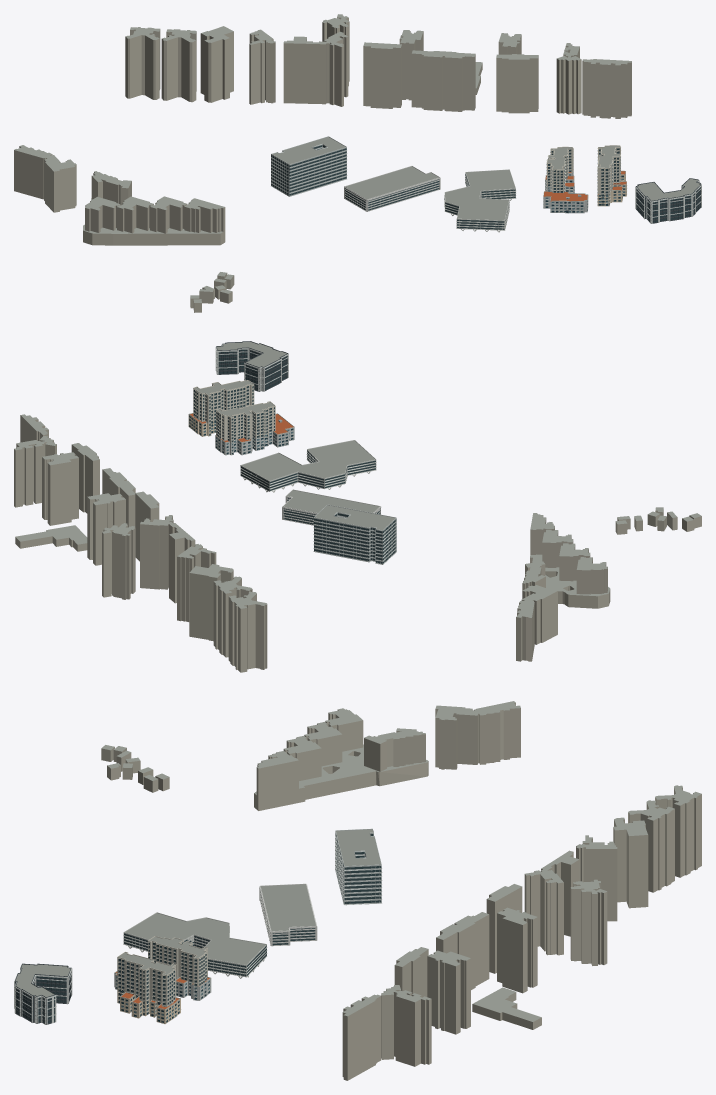
Rendered from zone_0_1-medium.glb.
3 views of the same model, one above another, from view 1: azimuth 30°, elevation 25°; view 2: azimuth 150°, elevation 25°; view 3: azimuth 270°, elevation 25° (orthographic). The views are drawn at different scales.
Visible parts, largest first — view 1: web_building_914973821, web_building_1424777851, web_building_2532440, web_building_1058569050, web_building_914973844, web_building_1328114548, web_building_914973820, web_building_914973822, web_building_914897042, web_building_914897043, web_building_773906092, web_building_914900394 (+17 smaller); view 2: web_building_1424777851, web_building_2532440, web_building_914897043, web_building_194547399, web_building_914973813, web_building_1058569050, web_building_914900392, web_building_914900394, web_building_773906092, web_building_667717927, web_building_914973842, web_building_667717925 (+17 smaller); view 3: web_building_1058569050, web_building_1424777851, web_building_914973842, web_building_914973813, web_building_2532440, web_building_15728037, web_building_914973819, web_building_914900392, web_building_1328114548, web_building_194547399, web_building_914973844, web_building_773906092 (+18 smaller).
Boxes of the visible parts, x1=… form: web_building_914973821: x1=411, y1=50, x2=475, y2=111; web_building_1424777851: x1=444, y1=169, x2=516, y2=232; web_building_2532440: x1=271, y1=136, x2=347, y2=196; web_building_1058569050: x1=14, y1=145, x2=76, y2=212; web_building_914973844: x1=582, y1=59, x2=631, y2=118; web_building_1328114548: x1=344, y1=166, x2=440, y2=211; web_building_914973820: x1=363, y1=42, x2=401, y2=108; web_building_914973822: x1=496, y1=54, x2=538, y2=113; web_building_914897042: x1=161, y1=29, x2=196, y2=102; web_building_914897043: x1=125, y1=27, x2=160, y2=99; web_building_773906092: x1=200, y1=26, x2=233, y2=102; web_building_914900394: x1=315, y1=31, x2=348, y2=106; web_building_1424777851: x1=240, y1=440, x2=376, y2=492; web_building_2532440: x1=313, y1=504, x2=396, y2=564; web_building_914897043: x1=228, y1=591, x2=267, y2=672; web_building_194547399: x1=215, y1=341, x2=288, y2=391; web_building_914973813: x1=42, y1=452, x2=78, y2=525; web_building_1058569050: x1=516, y1=585, x2=557, y2=661; web_building_914900392: x1=102, y1=523, x2=135, y2=599; web_building_914900394: x1=140, y1=515, x2=179, y2=589; web_building_773906092: x1=189, y1=564, x2=233, y2=641; web_building_667717927: x1=216, y1=401, x2=275, y2=454; web_building_914973842: x1=14, y1=436, x2=56, y2=507; web_building_667717925: x1=193, y1=380, x2=254, y2=433; web_building_1058569050: x1=435, y1=701, x2=520, y2=769; web_building_1424777851: x1=123, y1=912, x2=267, y2=978; web_building_914973842: x1=381, y1=985, x2=431, y2=1066; web_building_914973813: x1=427, y1=950, x2=470, y2=1034; web_building_2532440: x1=335, y1=828, x2=382, y2=905; web_building_15728037: x1=254, y1=744, x2=428, y2=810; web_building_914973819: x1=497, y1=907, x2=537, y2=993; web_building_914900392: x1=570, y1=879, x2=607, y2=965; web_building_1328114548: x1=259, y1=883, x2=317, y2=946; web_building_194547399: x1=14, y1=963, x2=72, y2=1024; web_building_914973844: x1=342, y1=994, x2=381, y2=1080; web_building_773906092: x1=613, y1=817, x2=648, y2=908.
Bounding box in the file's own units: 606 × 70.47 × 546.
